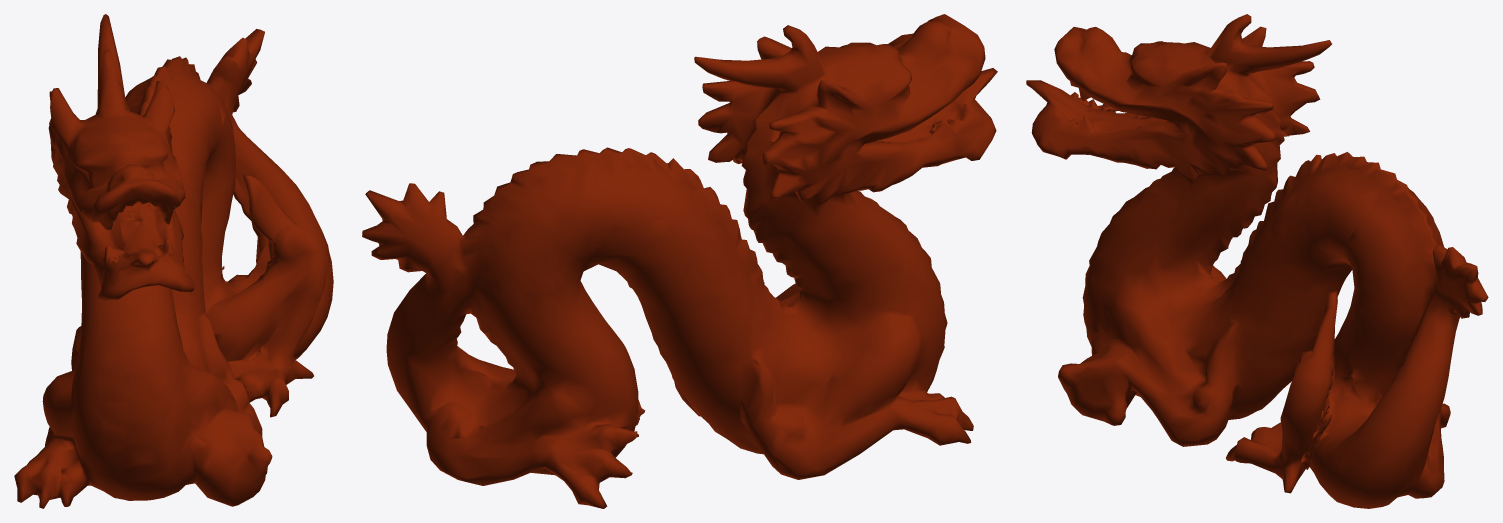
File: 10k_dragon.obj
3 renders of one model, left to right at view 1: azimuth 30°, elevation 25°; view 2: azimuth 150°, elevation 25°; view 3: azimuth 270°, elevation 25°, orthographic. The views are drawn at different scales.
Parts seen in each view (by area): view 1: dragon; view 2: dragon; view 3: dragon.
Boxes of the visible parts, x1,y1,x2,y2 form: dragon: (14, 14, 333, 508); dragon: (362, 14, 997, 508); dragon: (1026, 14, 1488, 508).
Size of the model in its own units: 1.09 by 0.9929 by 1.09.
